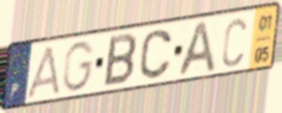A: (175, 18, 218, 80), (25, 44, 62, 101)
B: (101, 32, 138, 90)
C: (138, 28, 174, 82), (220, 16, 248, 70)
G: (61, 39, 97, 94)
